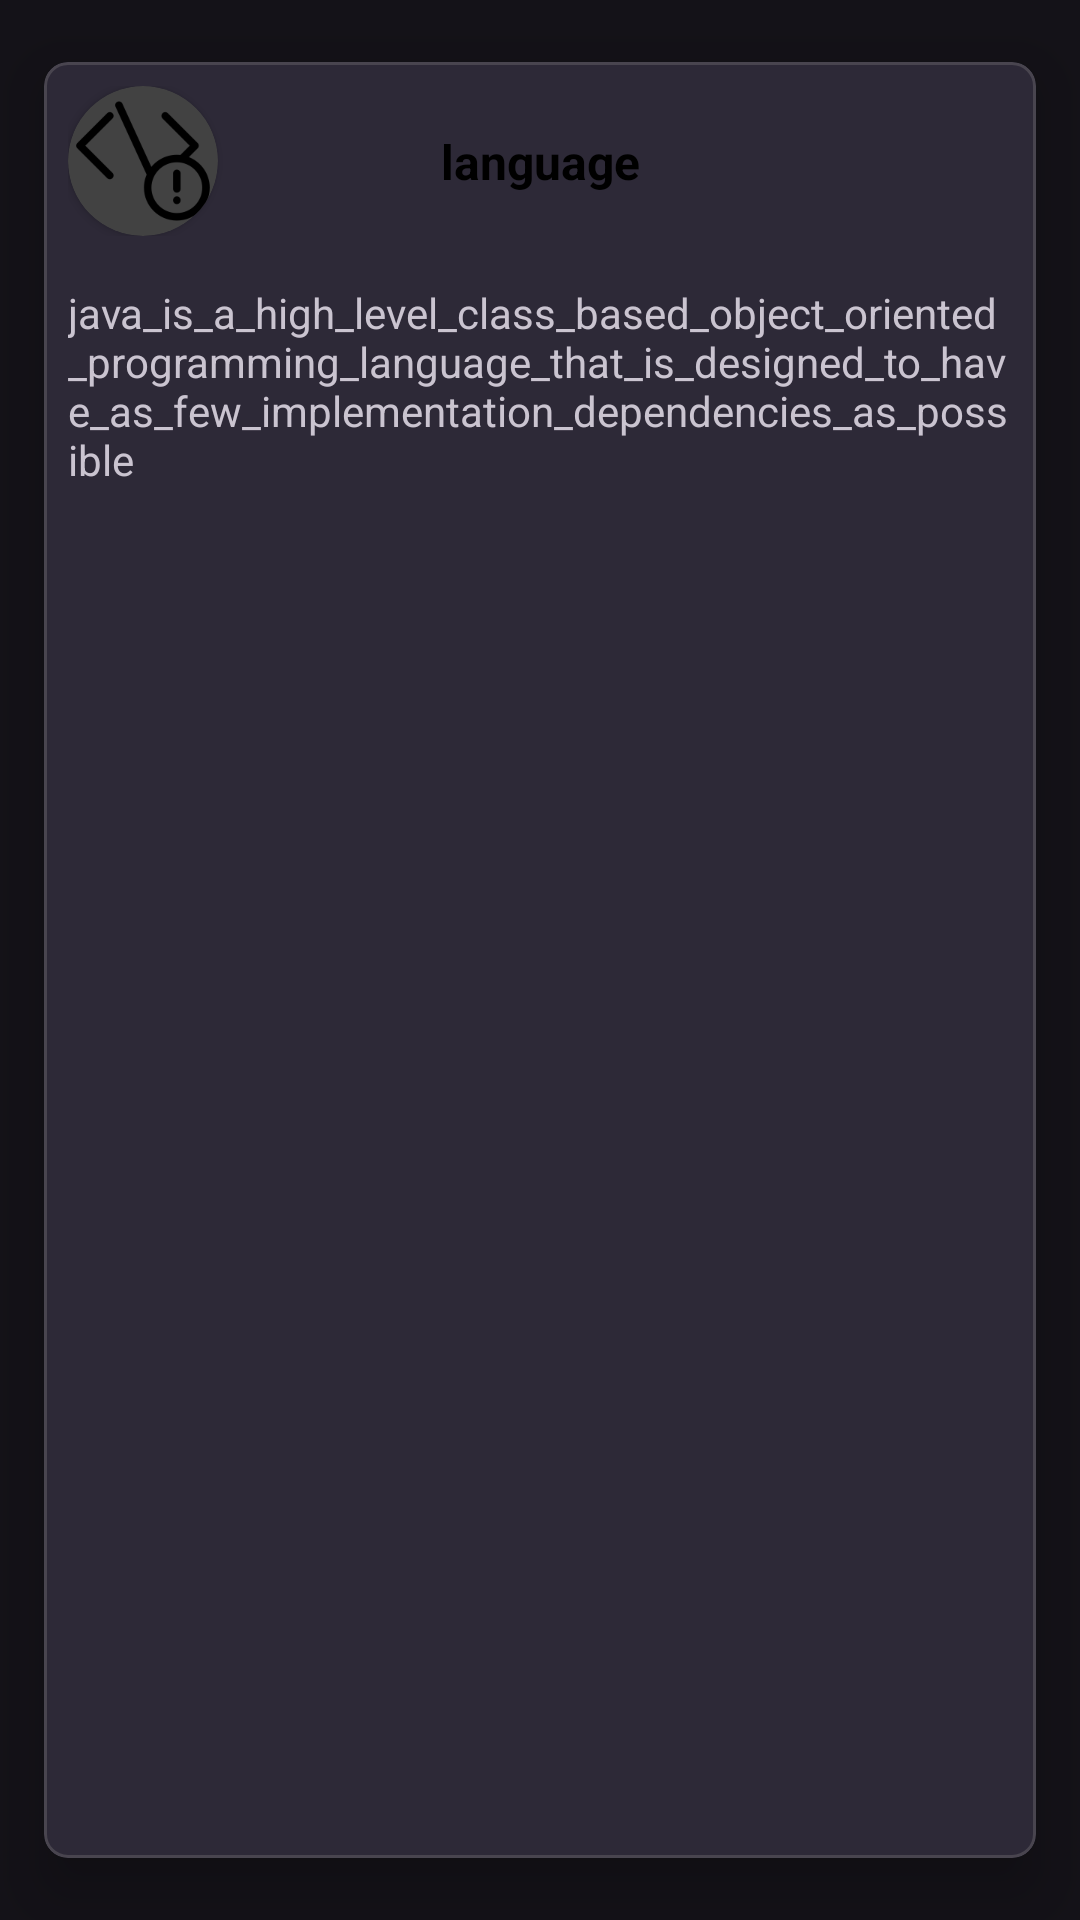

Where icons sit on this 1080x1920 app screen, as (x1, y1, x2, y2):
error: (69, 86, 217, 236)
